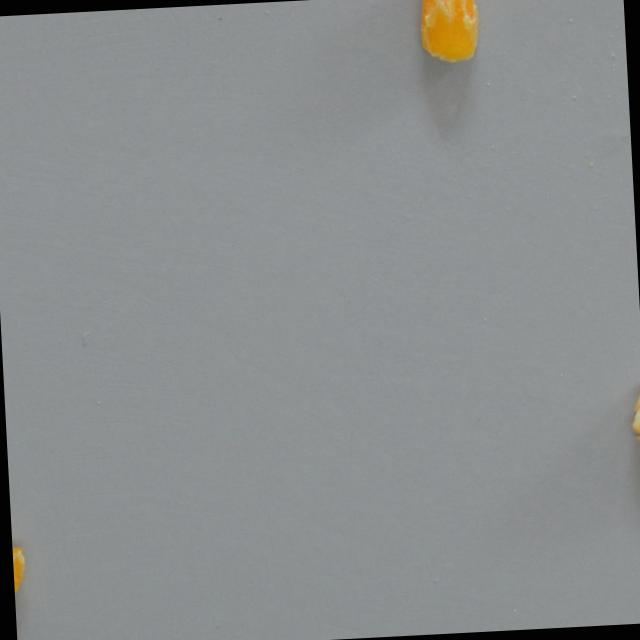pelicula: (413, 0, 486, 68), (11, 531, 32, 617), (624, 365, 640, 451)
